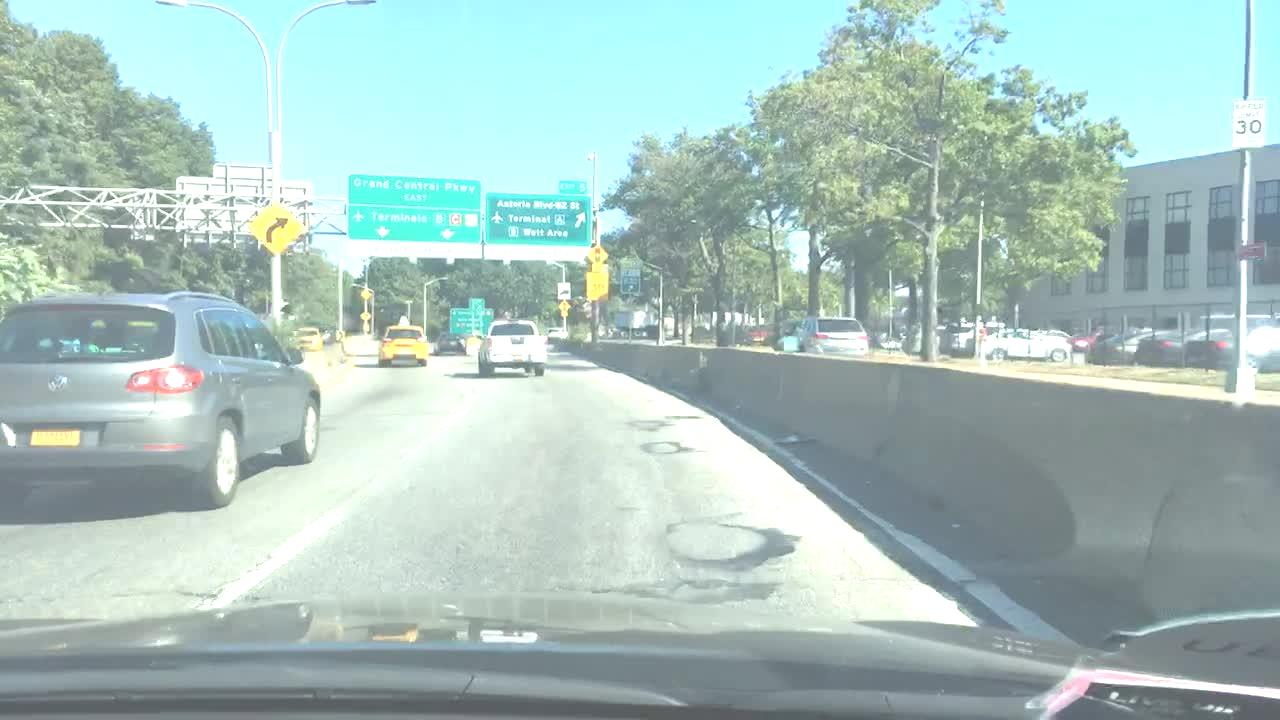Volkswagen: (44, 370, 71, 397)
